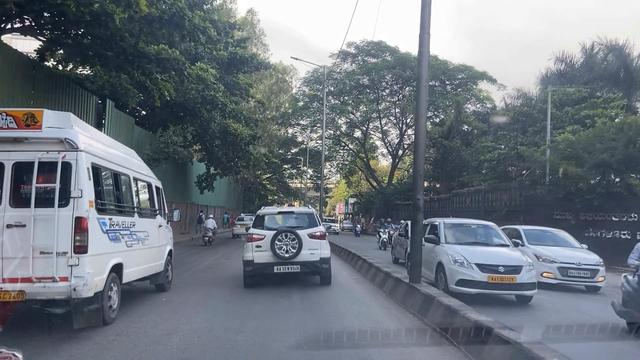HMV: (4, 110, 176, 327)
LMV: (236, 212, 335, 293)
